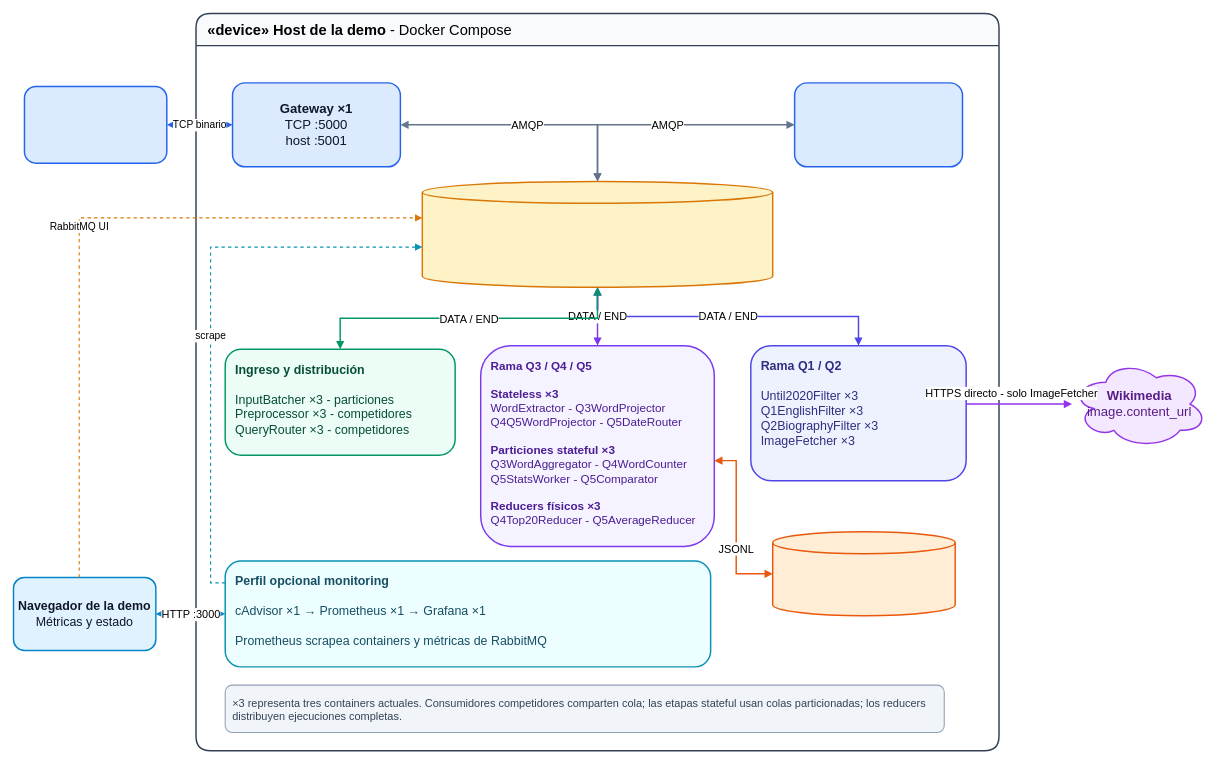
The diagram is 1220 pixels wide and 764 high, and some of its shapes have lost their labels. Here are the shapes that lost their labels. From the top down, the centre of each, then its label:
At [95,124]: "Cliente(s) Lee Parquet y recibe Q1–Q5".
At [878,124]: "ResultSink ×1 Resultados y barreras results.<execution_id>".
At [597,234]: "RabbitMQ ×1 Colas DATA/END - exchanges de control - ACK/NACK".
At [864,573]: "Docker volume q5_candidate_buffer subdirectorio por Comparator".
